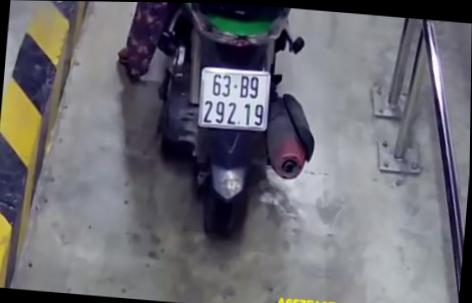LP: (195, 64, 273, 132)
